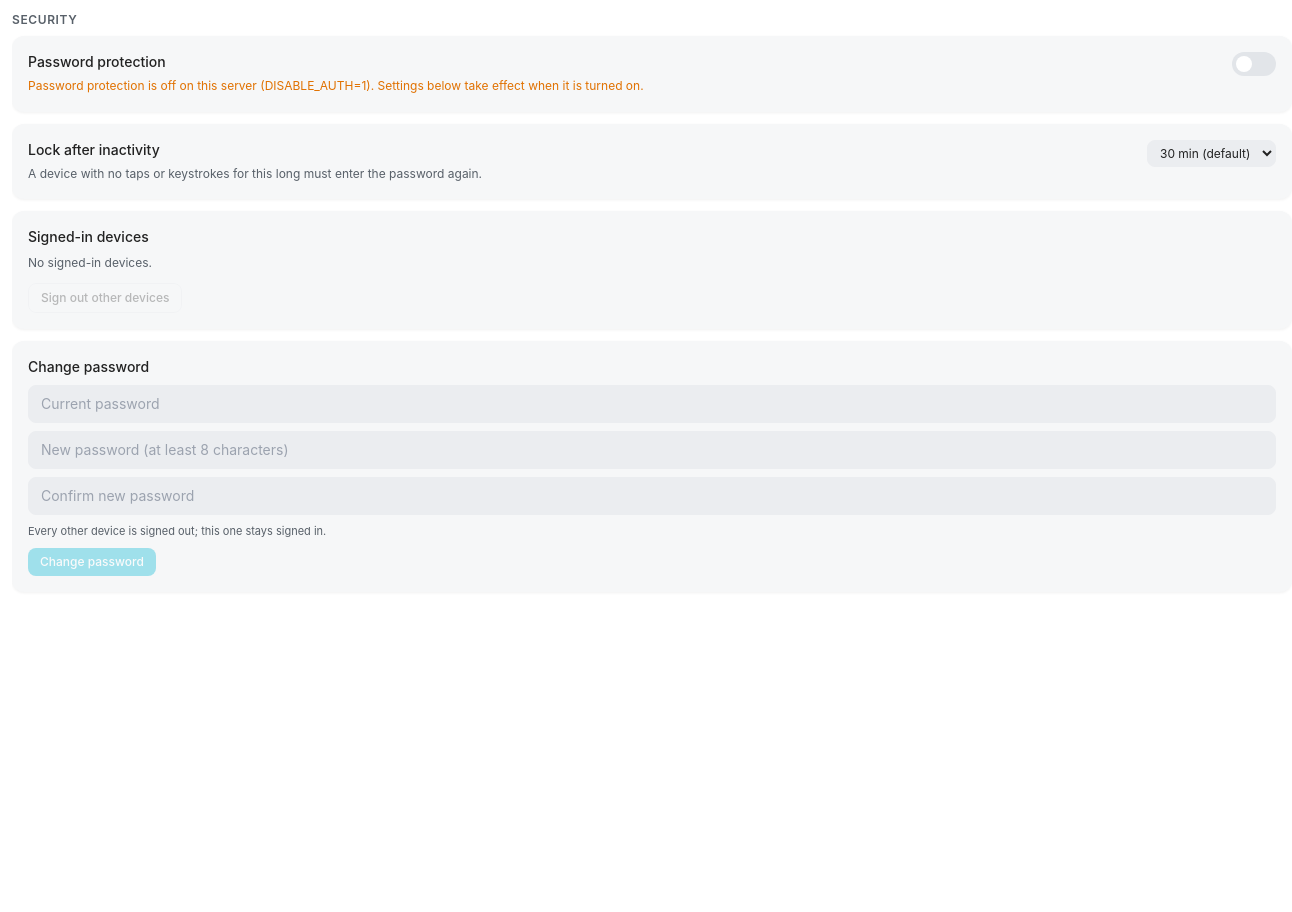
Test: Password protection card: off › wrong password (403): inline detail, still off, nobody signed out
This screenshot has width=1292, height=912.
Click the switch named "Password protection": coordinates (1254, 64) [1232,52,1276,76]
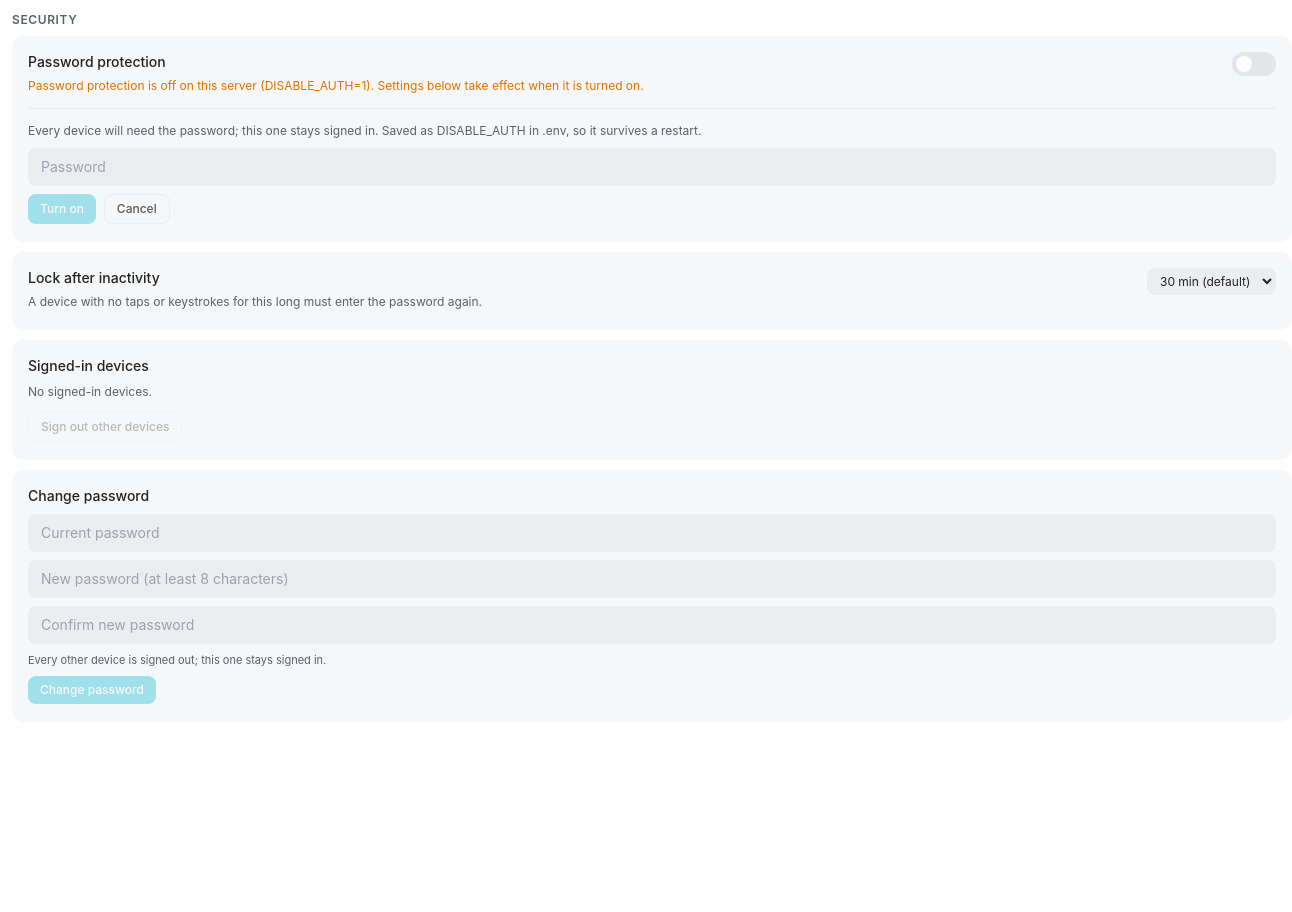
In the password field labelled "Password": coordinates (652, 167) [28,148,1276,186], type "nope-nope"
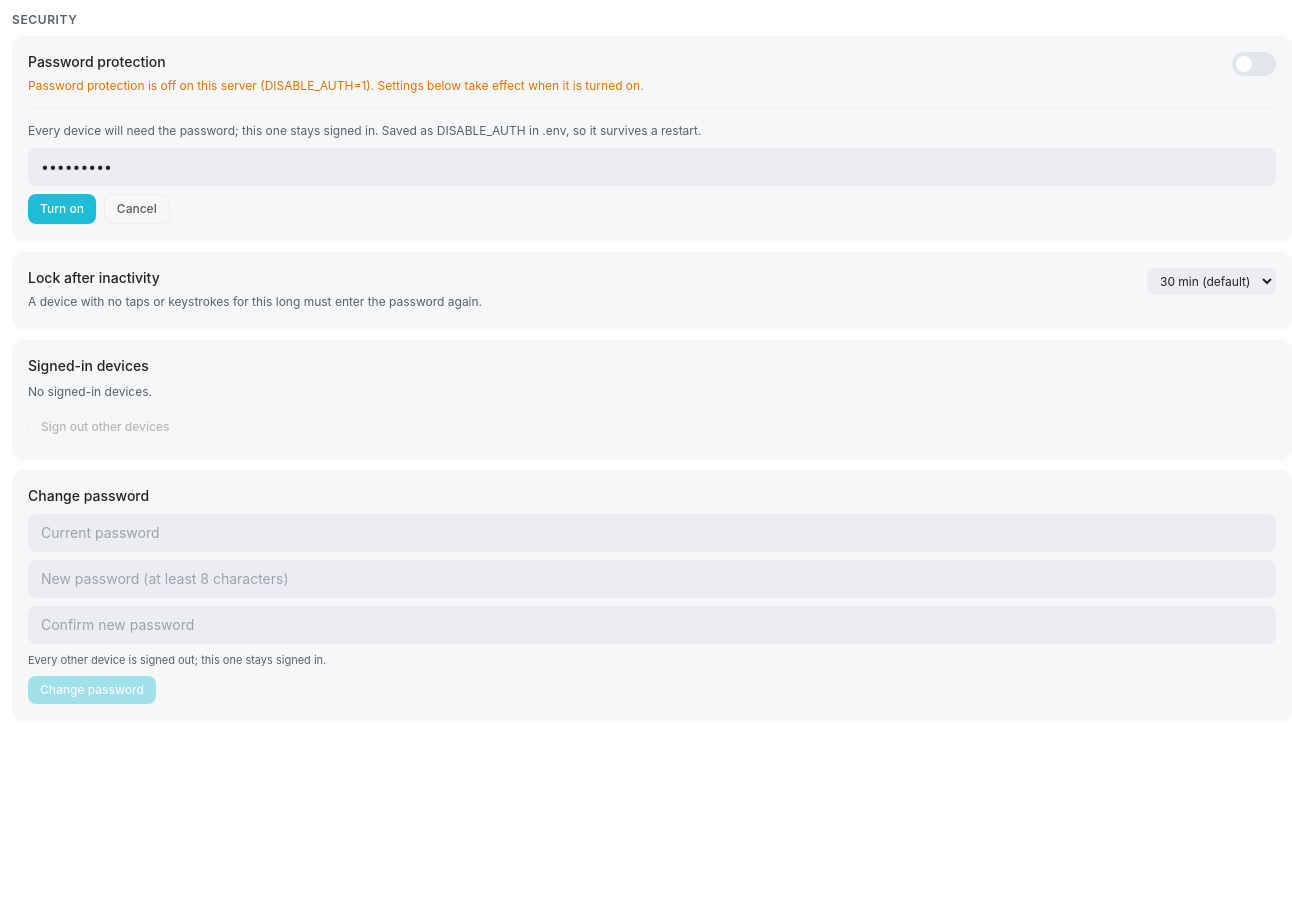
Click the button "Turn on": coordinates (62, 209) [28,194,96,224]
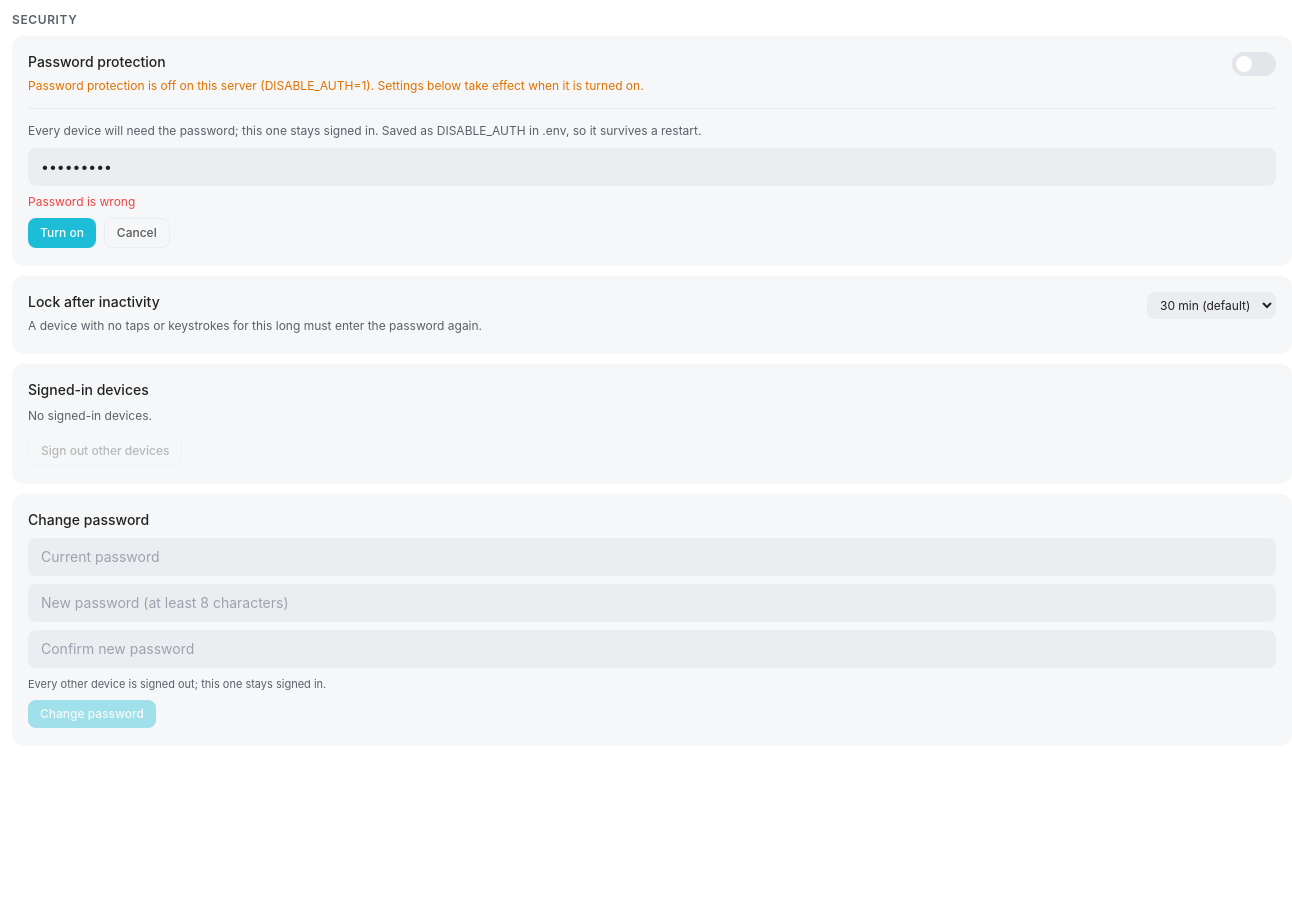
Now the message reads "Password is wrong", box [28,194,135,209]
